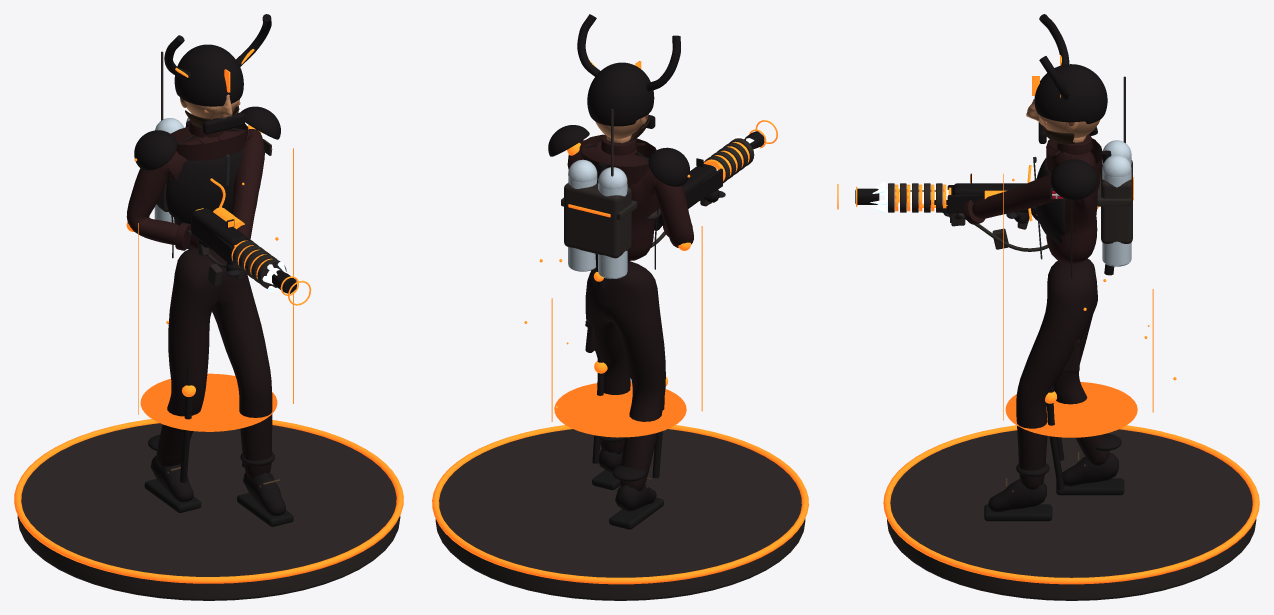
The model's file is frost_lava.glb.
3 renders of one model, left to right at view 1: azimuth 30°, elevation 25°; view 2: azimuth 150°, elevation 25°; view 3: azimuth 270°, elevation 25°, orthographic. The views are drawn at different scales.
Visible parts, largest first — view 1: fod_net, menneske_net, hoved_net, op2_net, op4.001_net, vaaben_net, op4_net; view 2: fod_net, menneske_net, hoved_net, op4.001_net, op3_net, vaaben_net, op2_net, op4_net; view 3: fod_net, menneske_net, hoved_net, op4.001_net, vaaben_net, op2_net, op3_net, op4_net.
Part boxes in pixels (box(x1,y1,x2,y2)): fod_net: box(14, 419, 403, 600); menneske_net: box(126, 117, 293, 526); hoved_net: box(164, 14, 271, 134); op2_net: box(134, 106, 280, 224); op4.001_net: box(134, 148, 293, 431); vaaben_net: box(191, 207, 296, 293); op4_net: box(126, 121, 261, 482); fod_net: box(432, 425, 808, 600); menneske_net: box(561, 134, 725, 529); hoved_net: box(577, 14, 680, 141); op4.001_net: box(524, 174, 702, 437); op3_net: box(564, 109, 631, 258); vaaben_net: box(682, 131, 764, 208); op2_net: box(548, 125, 689, 230); op4_net: box(567, 142, 690, 478); fod_net: box(883, 425, 1259, 600); menneske_net: box(943, 134, 1131, 521); hoved_net: box(1026, 14, 1107, 144); op4.001_net: box(1003, 173, 1176, 437); vaaben_net: box(855, 182, 1036, 229); op2_net: box(1027, 127, 1097, 243); op3_net: box(1101, 76, 1133, 243); op4_net: box(1045, 150, 1114, 490).
Size of the model in its own units: 1.94 by 2.77 by 2.17.
